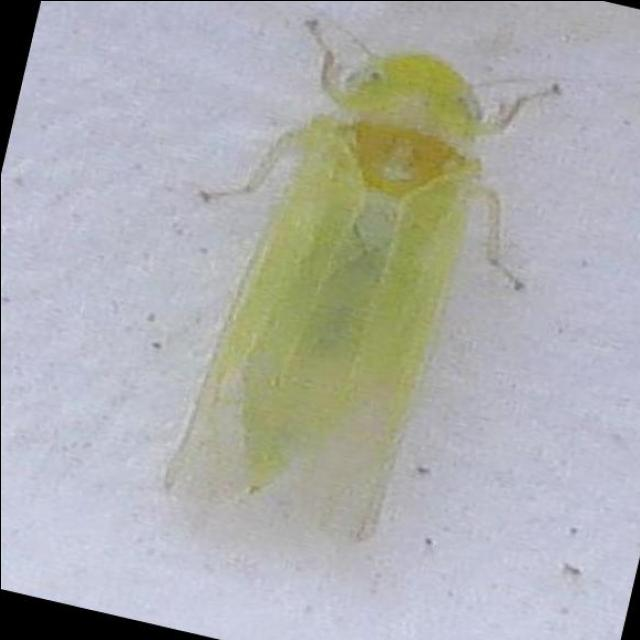green leaf hopper: (165, 20, 557, 538)
